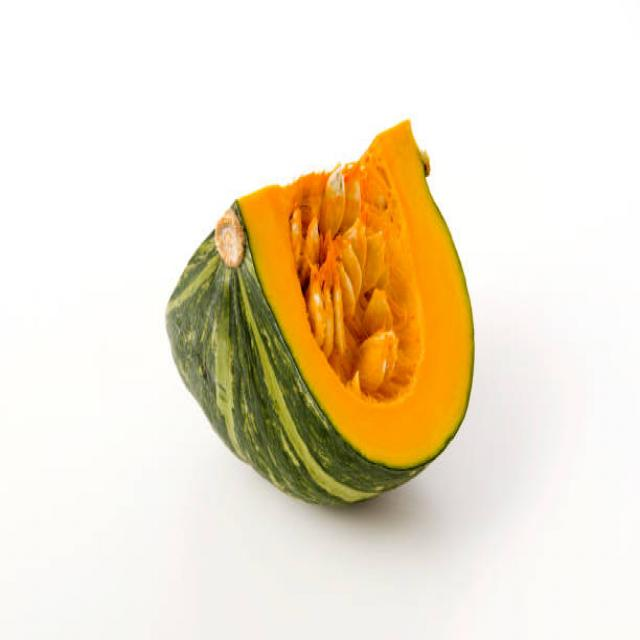Pumpkin: (160, 108, 480, 514)
